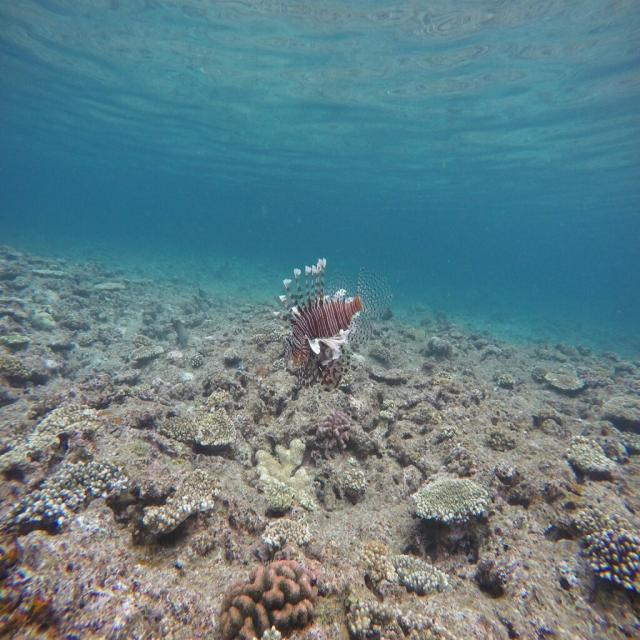Aslan Baligi: (272, 255, 392, 393)
